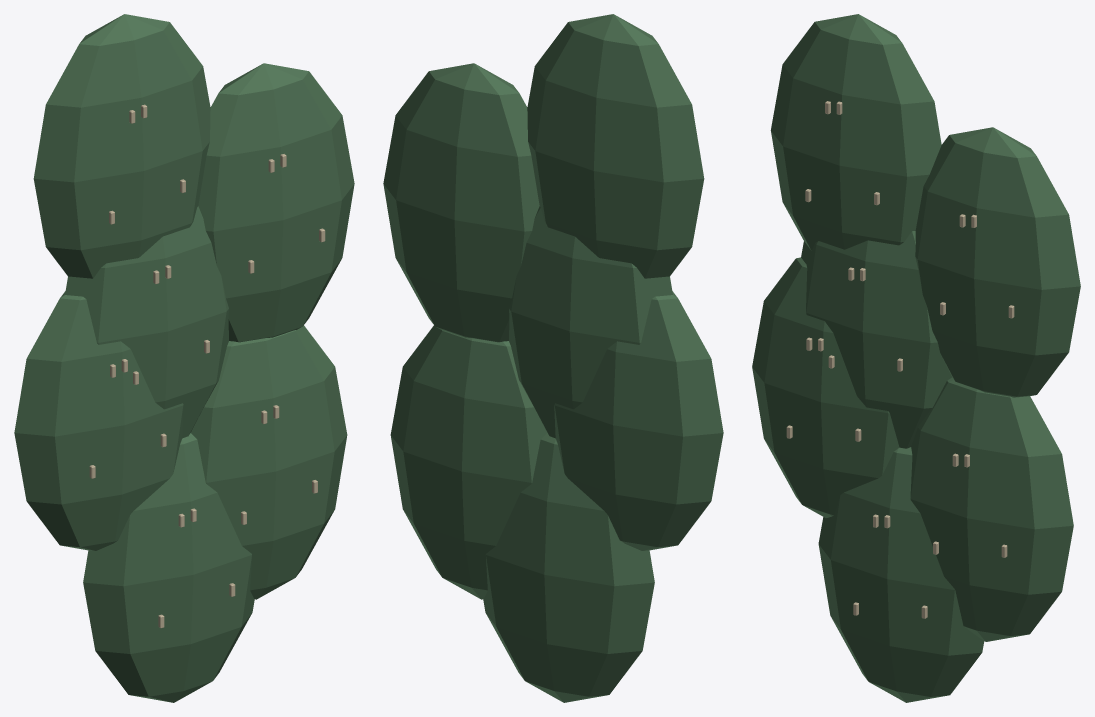
The model's file is vegetation-cactus-paddle.lod0.glb.
3 renders of one model, left to right at view 1: azimuth 30°, elevation 25°; view 2: azimuth 150°, elevation 25°; view 3: azimuth 330°, elevation 25°, orthographic. The views are drawn at different scales.
Parts seen in each view (by area): view 1: vegetation-cactus-paddle__body; view 2: vegetation-cactus-paddle__body; view 3: vegetation-cactus-paddle__body.
Boxes of the visible parts, left/top/right/bottom form: vegetation-cactus-paddle__body: left=14, top=14, right=354, bottom=702; vegetation-cactus-paddle__body: left=383, top=14, right=723, bottom=702; vegetation-cactus-paddle__body: left=752, top=14, right=1080, bottom=702.
Size of the model in its own units: 1.2 by 2.36 by 0.2475.
